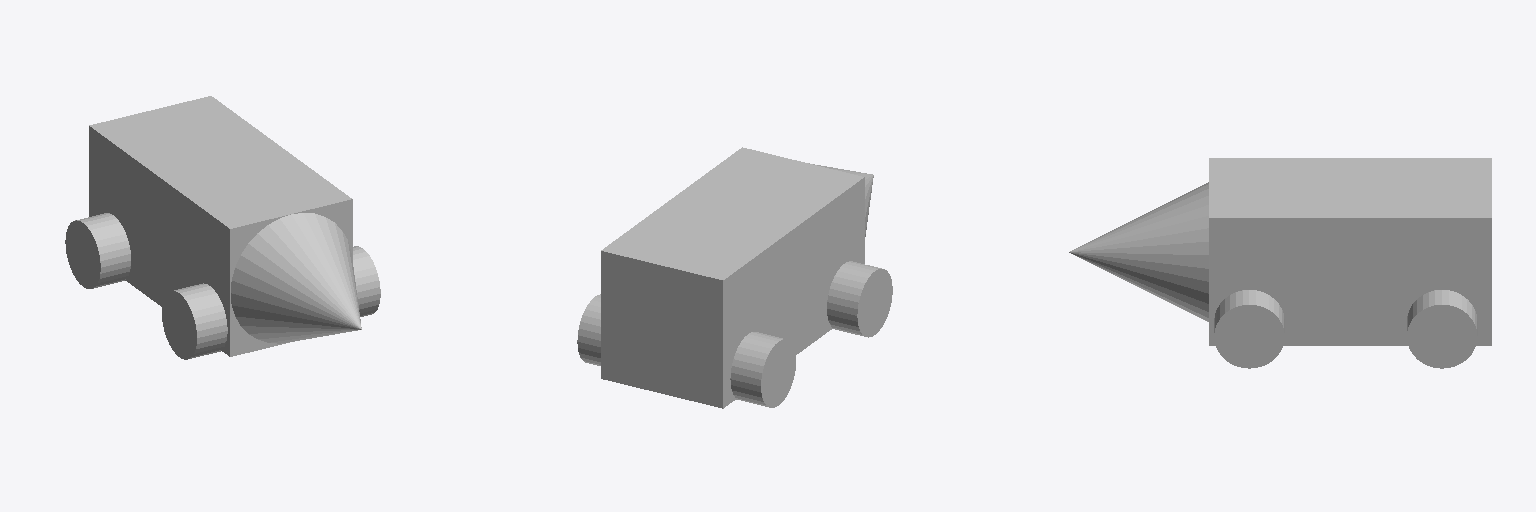
File: test_car.obj
3 views of the same model, side by side, from view 1: azimuth 30°, elevation 25°; view 2: azimuth 150°, elevation 25°; view 3: azimuth 270°, elevation 25° (orthographic).
Parts seen in each view (by area): view 1: Cube_Cube.001, Cone, Cylinder, Cylinder.001; view 2: Cube_Cube.001, Cylinder.001, Cylinder; view 3: Cube_Cube.001, Cone, Cylinder, Cylinder.001.
Boxes of the visible parts, x1,y1,x2,y2 form: Cube_Cube.001: [89, 96, 352, 356]; Cone: [231, 213, 361, 343]; Cylinder: [162, 246, 380, 359]; Cylinder.001: [65, 213, 130, 288]; Cube_Cube.001: [601, 147, 864, 408]; Cylinder.001: [577, 294, 795, 407]; Cylinder: [827, 261, 892, 337]; Cube_Cube.001: [1209, 158, 1491, 345]; Cone: [1069, 182, 1208, 321]; Cylinder: [1214, 290, 1284, 368]; Cylinder.001: [1407, 290, 1477, 368].
Bounding box in the file's own units: 0.6 × 0.4236 × 1.2.